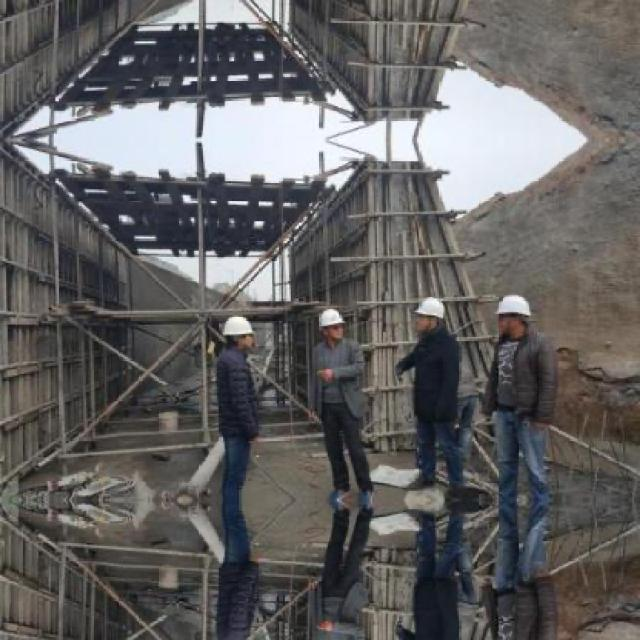con casco: (458, 283, 543, 346), (296, 297, 376, 356), (210, 310, 266, 356), (407, 293, 451, 341)
